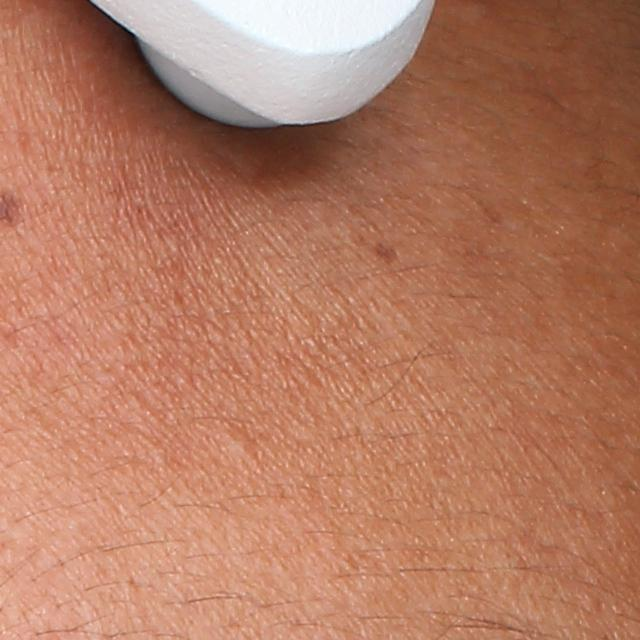comedo: (222, 427, 263, 464)
nevus: (376, 238, 400, 263)
